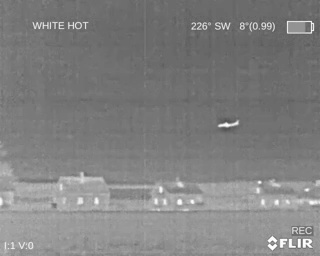AIRPLANE: (216, 119, 240, 129)
